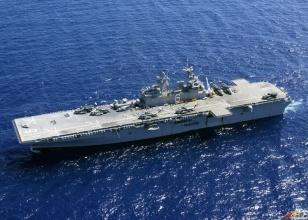warship: (7, 68, 293, 151)
